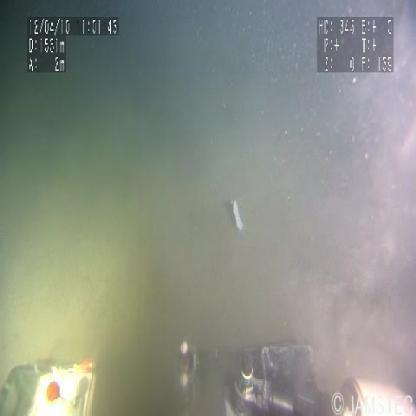Rác: (228, 199, 246, 233)
